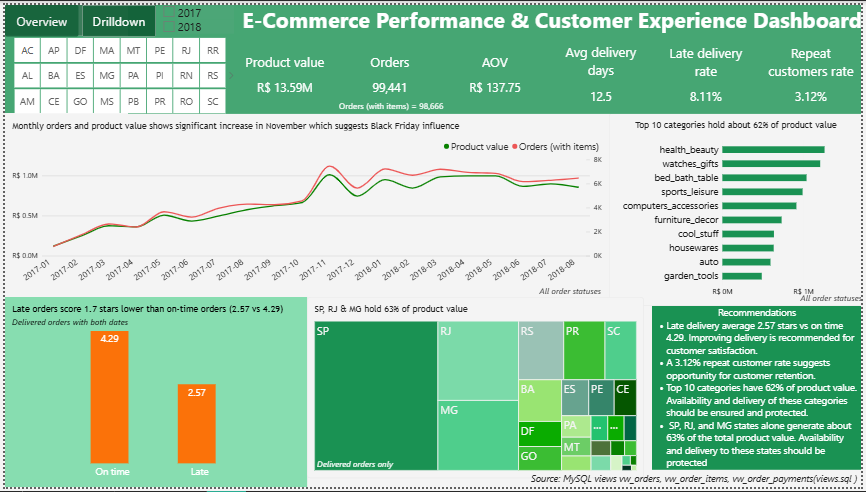

Layout of this report page (visuals, bound fields, positions):
{"tool":"powerbi","page":{"name":"Overview","canvas":[1920,1080],"ordinal":0},"visuals":[{"type":"textbox","box":[275.6,0,1644.6,244.2],"z":0,"group":"g2"},{"type":"cardVisual","fields":{"Data":["olist_analytics vw_orders.AOV"]},"box":[984.5,69.5,228.2,171.7],"z":0,"group":"g1"},{"type":"lineChart","title":"Monthly orders and product value shows significant increase in November which suggests Black Friday influence","fields":{"Category":["olist_analytics vw_orders.purchase_month.Variation.Date Hierarchy.Quarter"],"Y":["olist_analytics vw_orders.Product value"],"Y2":["olist_analytics vw_orders.Orders"]},"box":[0,244.2,1353.4,410],"z":0},{"type":"group","id":"g1","title":"Group 1","box":[513.1,69.5,1407.1,172.5],"z":1000,"group":"g2"},{"type":"cardVisual","fields":{"Data":["olist_analytics vw_orders.Avg delivery days"]},"box":[1220.2,69.5,228.2,171.7],"z":1000,"group":"g1"},{"type":"barChart","title":"Top 10 categories hold about 62% of product value","fields":{"Category":["olist_analytics vw_order_items.category"],"Y":["olist_analytics vw_orders.Product value"]},"box":[1353.4,242,566.9,432.4],"z":1000},{"type":"cardVisual","fields":{"Data":["olist_analytics vw_orders.Late delivery rate"]},"box":[1455.9,69.5,228.2,171.7],"z":2000,"group":"g1"},{"type":"columnChart","title":"Late orders score 1.7 stars lower than on-time orders (2.57 vs 4.29)","fields":{"Category":["olist_analytics vw_orders.delivery_status"],"Y":["Avg(olist_analytics vw_orders.avg_review_score)"]},"box":[0,654.3,676.7,425.7],"z":2000},{"type":"cardVisual","fields":{"Data":["olist_analytics vw_orders.Orders1"]},"box":[748.8,69.5,228.2,171.7],"z":3000,"group":"g1"},{"type":"treemap","title":"SP, RJ & MG hold 63% of product value","fields":{"Group":["olist_analytics vw_orders.customer_state"],"Values":["olist_analytics vw_orders.Product value"]},"box":[676.7,654.3,755.1,405.6],"z":3000},{"type":"cardVisual","fields":{"Data":["olist_analytics vw_orders.Product value"]},"box":[513.1,69.5,228.2,171.7],"z":4000,"group":"g1"},{"type":"textbox","box":[1449.7,674.4,470.5,367.5],"z":4000},{"type":"group","id":"g2","title":"Group 2","box":[0,0,1920.2,244.2],"z":5000},{"type":"cardVisual","fields":{"Data":["olist_analytics vw_orders.Repeat customers rate"]},"box":[1691.6,69.5,228.6,172.5],"z":5000,"group":"g1"},{"type":"slicer","fields":{"Values":["olist_analytics vw_orders.customer_state"]},"box":[0,71.7,513.1,172.5],"z":6000},{"type":"shape","box":[0,0,338.3,69.5],"z":7000},{"type":"pageNavigator","box":[0,0,338.3,71.7],"z":8000},{"type":"shape","box":[0,69.5,275.6,172.5],"z":8001,"group":"g2"},{"type":"slicer","fields":{"Values":["Calendar_table.Year"]},"box":[347.3,0,165.8,71.7],"z":9000},{"type":"textbox","box":[1147.2,622.9,188.2,31.4],"z":10000},{"type":"textbox","box":[1734.3,638.6,186,35.9],"z":11000},{"type":"textbox","box":[699.1,1010.5,177,31.4],"z":12000},{"type":"textbox","box":[15.7,692.4,295.8,31.4],"z":13000},{"type":"textbox","box":[748.4,208.4,255.4,35.9],"z":14000},{"type":"textbox","box":[1178.6,1041.9,741.7,38.1],"z":15000}]}

Visuals, with their boxes in screenshot pixels (x1, y1, x2, y2), scaled from the page's 1920x1080 canvas onto the 866x492 screenshot:
textbox: detection(124, 0, 865, 111)
cardVisual - olist_analytics vw_orders.AOV: detection(444, 32, 547, 110)
"Monthly orders and product value shows significant increase in November which suggests Black Friday influence" lineChart: detection(0, 111, 610, 298)
"Group 1" group: detection(231, 32, 865, 110)
cardVisual - olist_analytics vw_orders.Avg delivery days: detection(550, 32, 653, 110)
"Top 10 categories hold about 62% of product value" barChart: detection(610, 110, 865, 307)
cardVisual - olist_analytics vw_orders.Late delivery rate: detection(657, 32, 760, 110)
"Late orders score 1.7 stars lower than on-time orders (2.57 vs 4.29)" columnChart: detection(0, 298, 305, 491)
cardVisual - olist_analytics vw_orders.Orders1: detection(338, 32, 441, 110)
"SP, RJ & MG hold 63% of product value" treemap: detection(305, 298, 646, 483)
cardVisual - olist_analytics vw_orders.Product value: detection(231, 32, 334, 110)
textbox: detection(654, 307, 865, 475)
"Group 2" group: detection(0, 0, 865, 111)
cardVisual - olist_analytics vw_orders.Repeat customers rate: detection(763, 32, 865, 110)
slicer - olist_analytics vw_orders.customer_state: detection(0, 33, 231, 111)
shape: detection(0, 0, 153, 32)
pageNavigator: detection(0, 0, 153, 33)
shape: detection(0, 32, 124, 110)
slicer - Calendar_table.Year: detection(157, 0, 231, 33)
textbox: detection(517, 284, 602, 298)
textbox: detection(782, 291, 865, 307)
textbox: detection(315, 460, 395, 475)
textbox: detection(7, 315, 140, 330)
textbox: detection(338, 95, 453, 111)
textbox: detection(532, 475, 865, 491)
